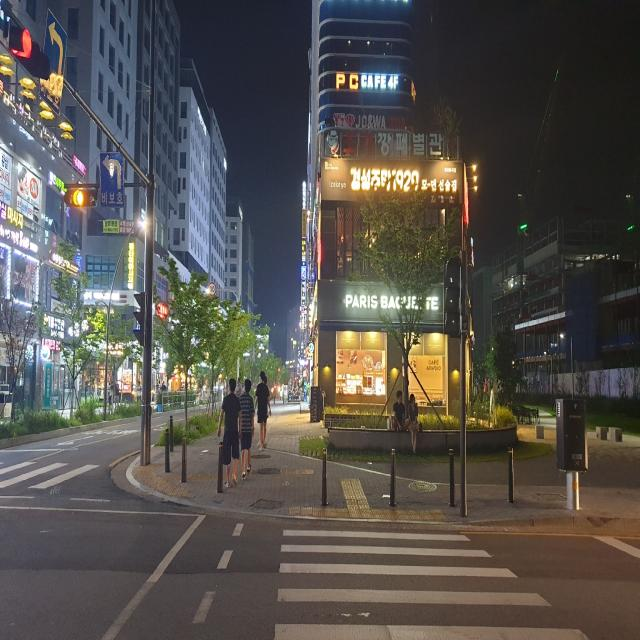횡단보도: (272, 525, 591, 640), (0, 442, 111, 495)
